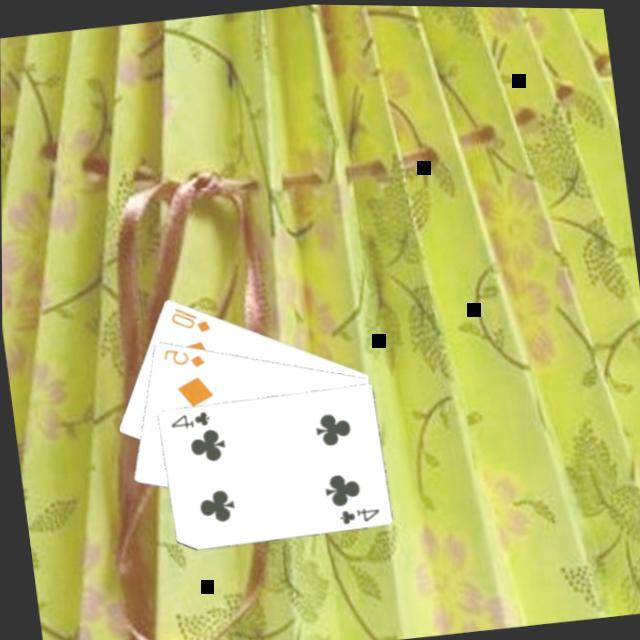10D: (166, 297, 214, 335)
4C: (334, 498, 382, 525), (165, 404, 213, 429)
5D: (158, 338, 208, 372)
